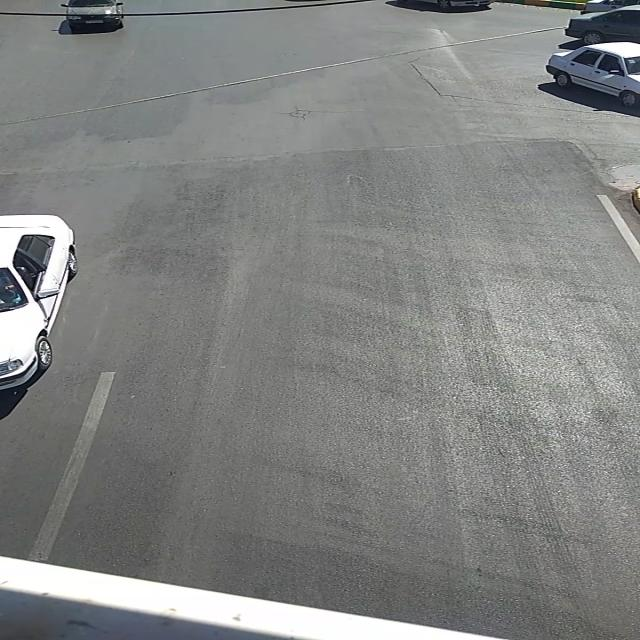car: (1, 212, 77, 390), (545, 40, 639, 106), (568, 6, 638, 44), (61, 0, 127, 31)
